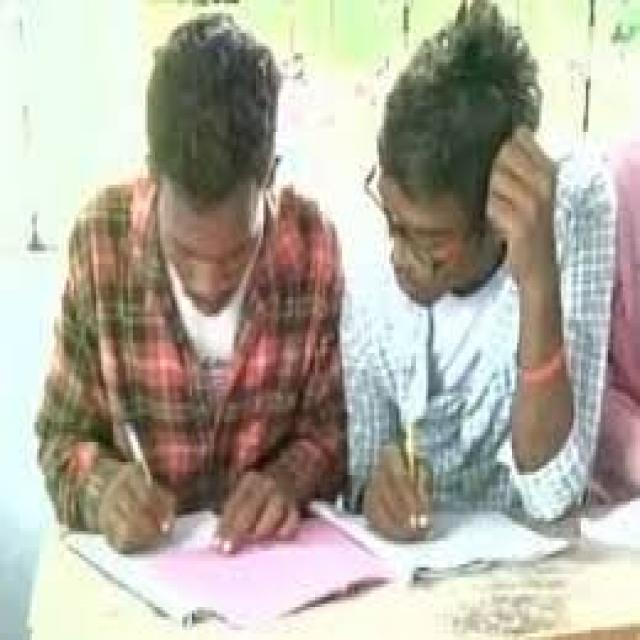cheating: (345, 0, 624, 577)
good: (23, 2, 347, 640)
